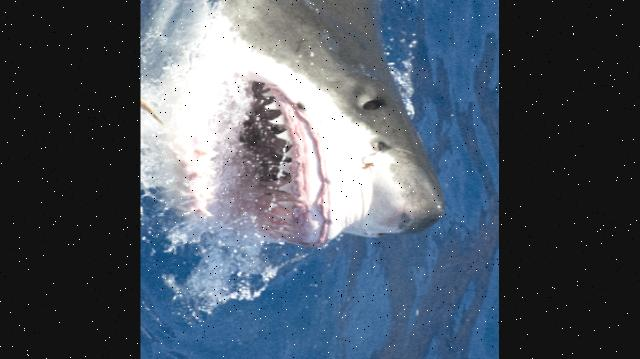Mulut: (160, 49, 342, 274)
